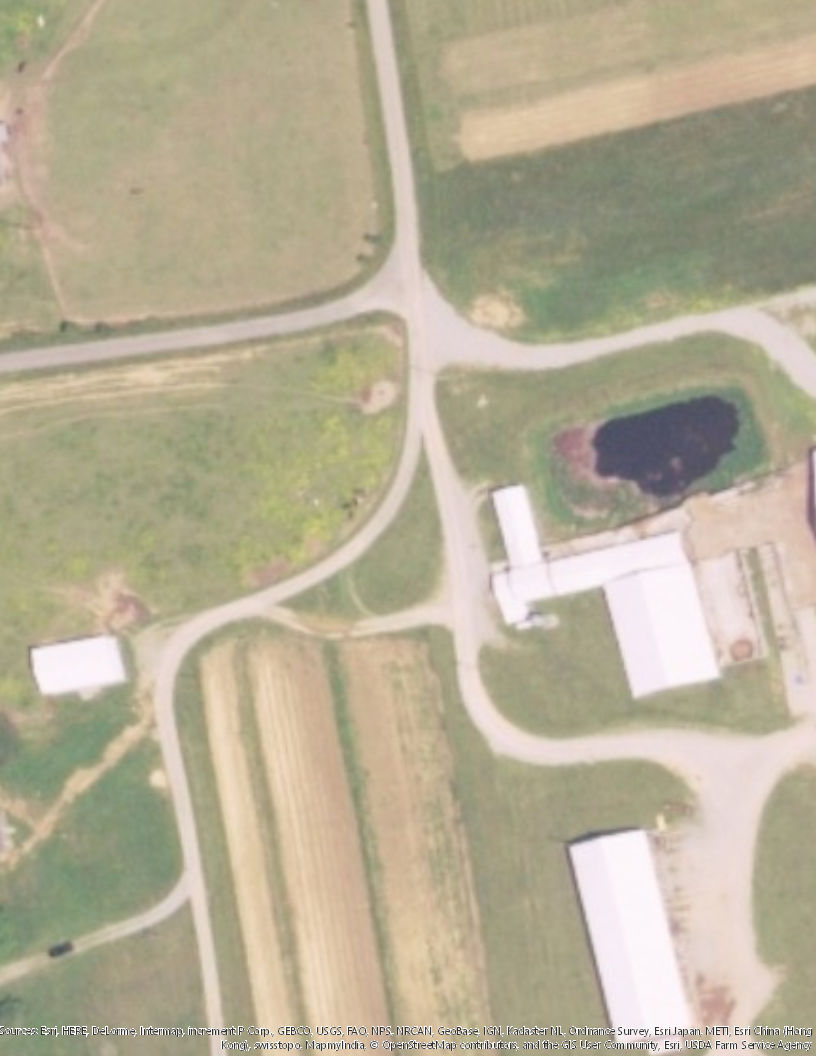cafo: (478, 477, 731, 689), (562, 820, 703, 1050), (26, 627, 131, 696)
